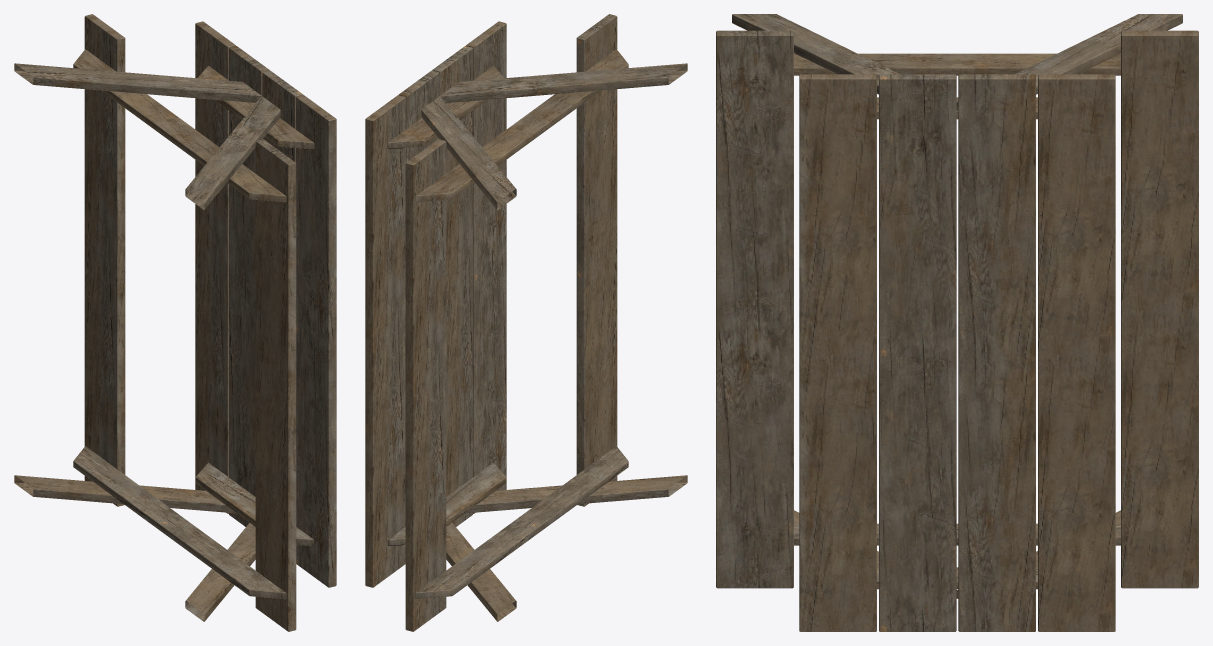
File: cP_PicnicTable02.dae
3 renders of one model, left to right at view 1: azimuth 30°, elevation 25°; view 2: azimuth 150°, elevation 25°; view 3: azimuth 270°, elevation 25°, orthographic. The views are drawn at different scales.
Visible parts, largest first — view 1: cP_PicnicTable02.001; view 2: cP_PicnicTable02.001; view 3: cP_PicnicTable02.001.
Boxes of the visible parts, x1,y1,x2,y2 form: cP_PicnicTable02.001: [14, 14, 336, 631]; cP_PicnicTable02.001: [365, 14, 687, 631]; cP_PicnicTable02.001: [716, 14, 1198, 631].
Bounding box in the file's own units: 0.8299 × 1.82 × 2.3.
